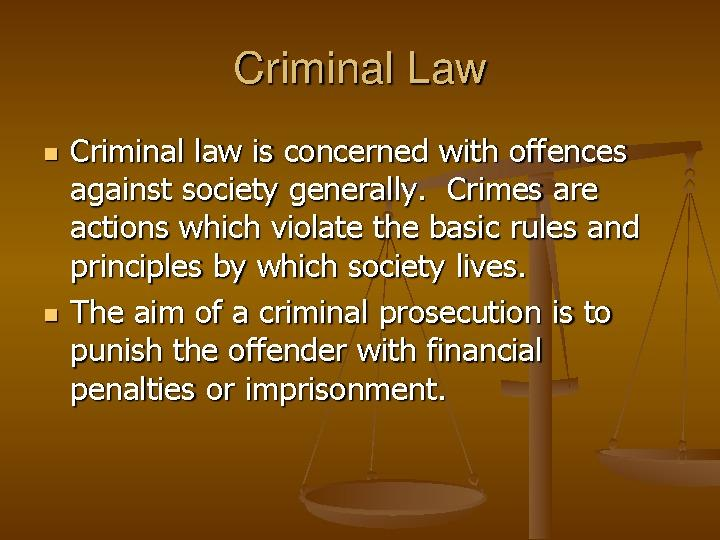paragraph: (66, 129, 661, 423)
title: (234, 37, 511, 110)
